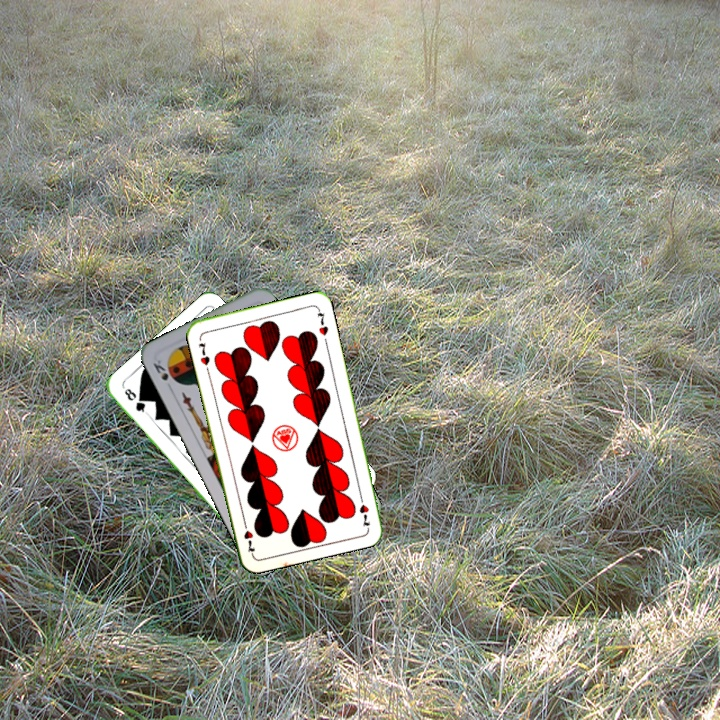G8: (120, 384, 150, 417)
H7: (355, 490, 373, 529), (194, 338, 212, 368)
SK: (149, 356, 171, 383)
